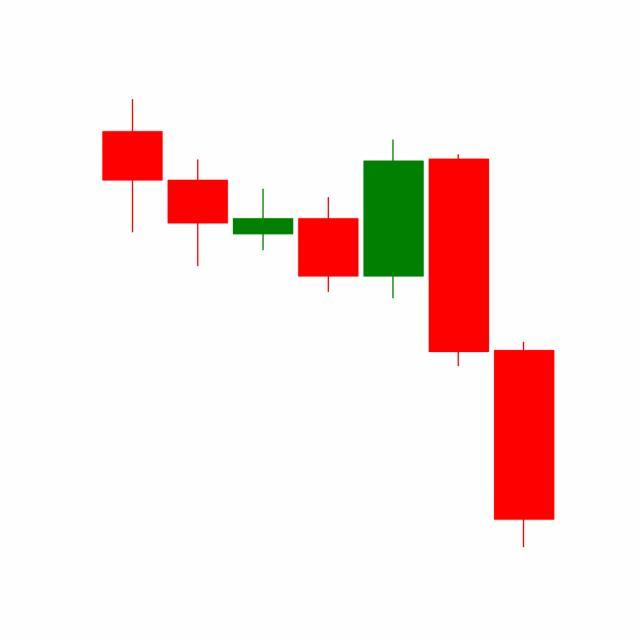Three Outside Up-Down: (360, 135, 556, 549)
